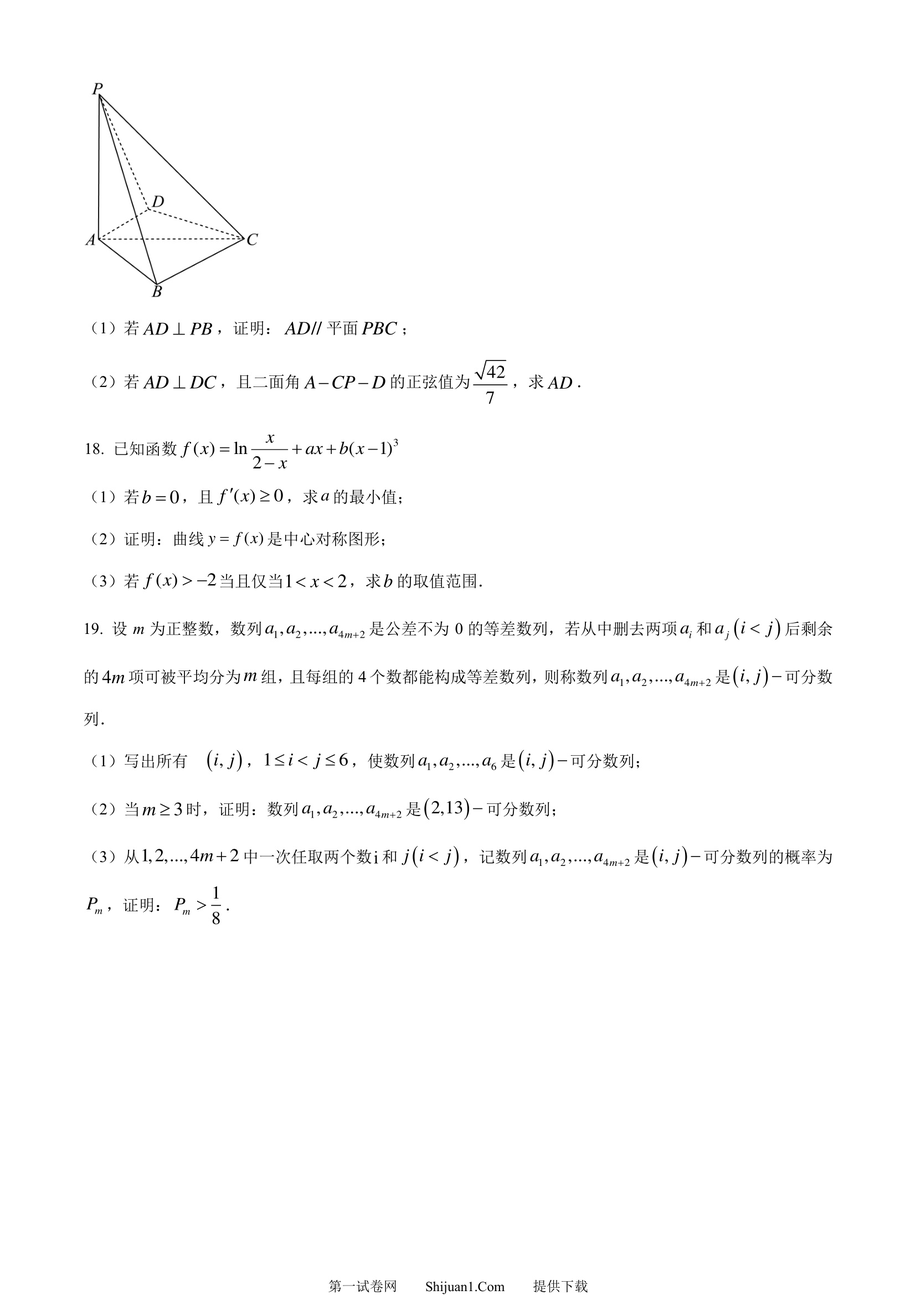question: (66, 617, 855, 928), (75, 69, 598, 413), (75, 432, 504, 603)
